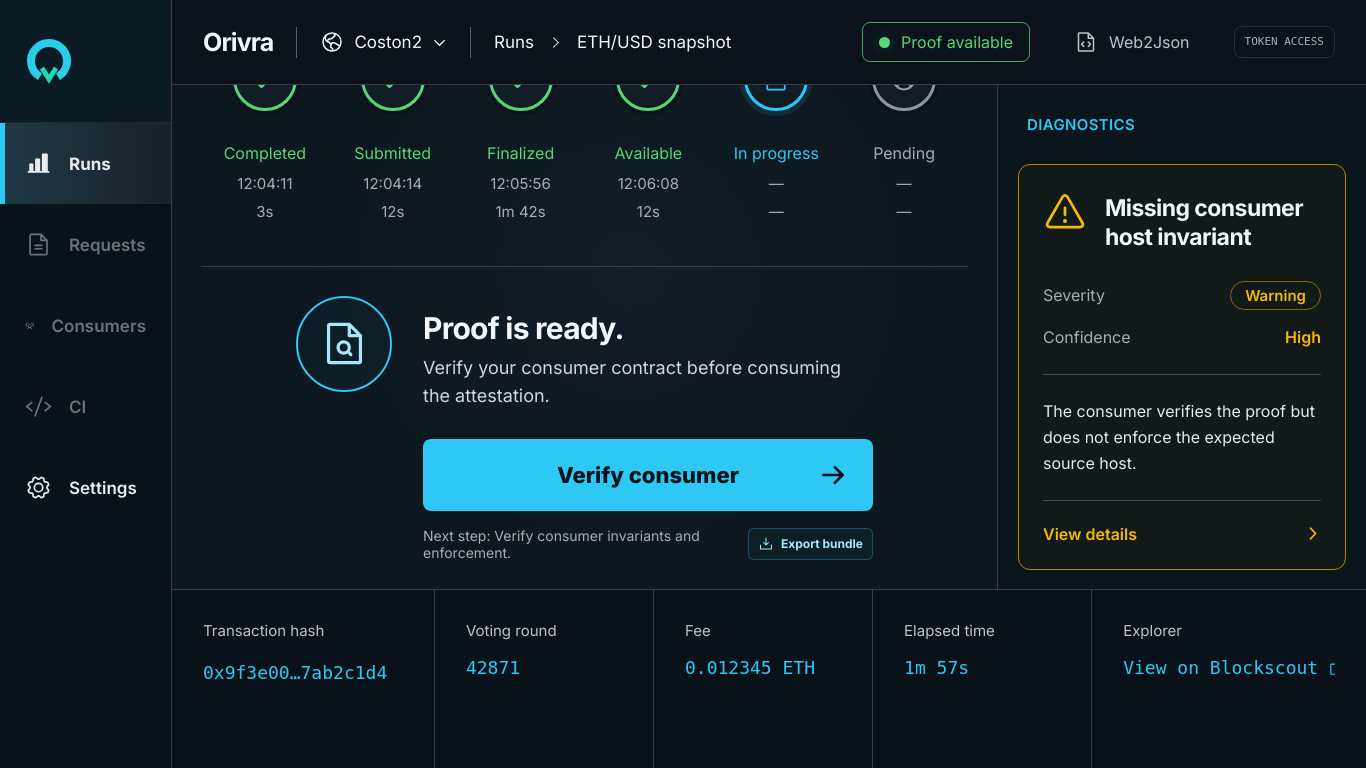
Consumer Lab error and focus boundaries › keeps generation retryable and redacts service credentials
(page scrolled)
Click the button "Verify consumer" at {"x": 648, "y": 475}, box [423,439,873,511]
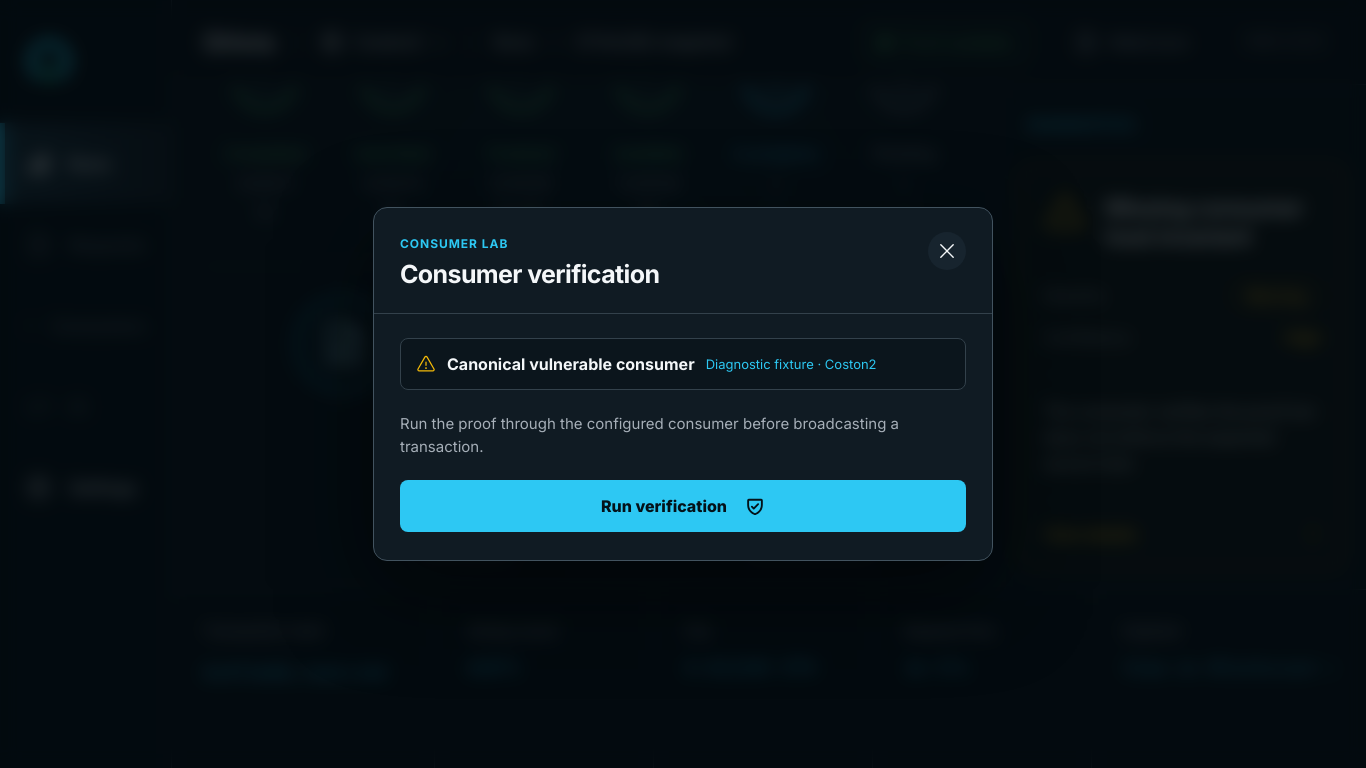
Click the button "Run verification" at {"x": 683, "y": 506}, box [400,480,966,532]
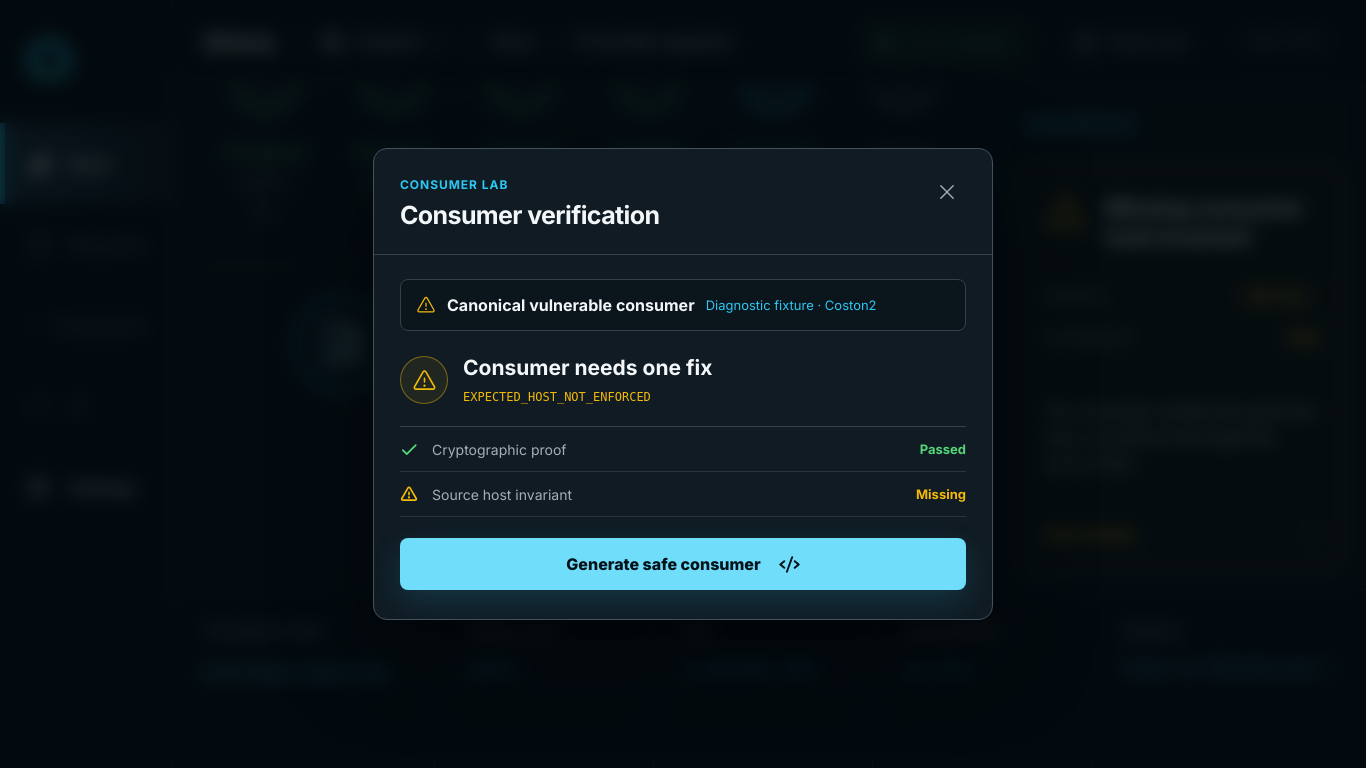
Expected: the heading "Consumer needs one fix" is shown, [463,355,712,380]
Click the button "Generate safe consumer" at {"x": 683, "y": 564}, box [400,538,966,590]
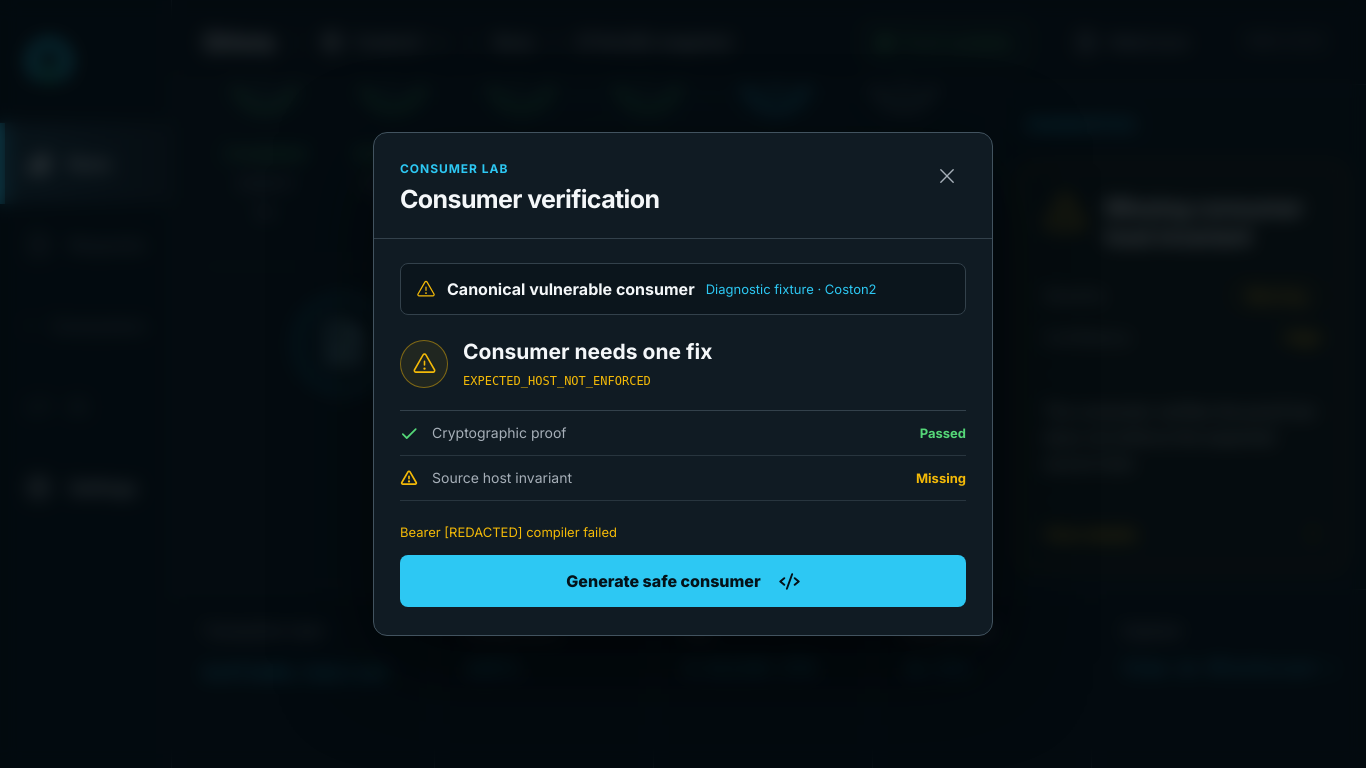
Expected: the message shows "compiler failed", [400,524,617,540]
Click the button "Generate safe consumer" at {"x": 683, "y": 581}, box [400,555,966,607]
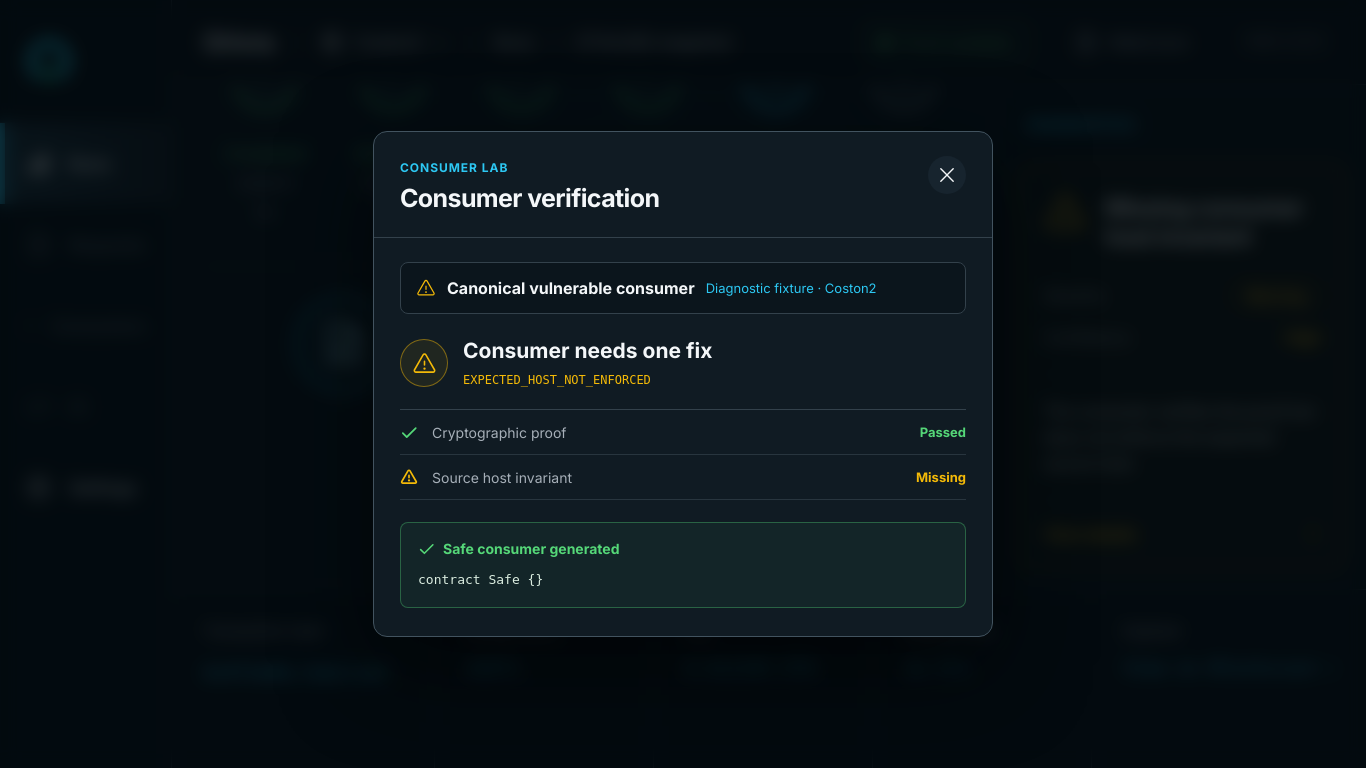
Expected: the text "Safe consumer generated" is shown, [418,540,620,557]
